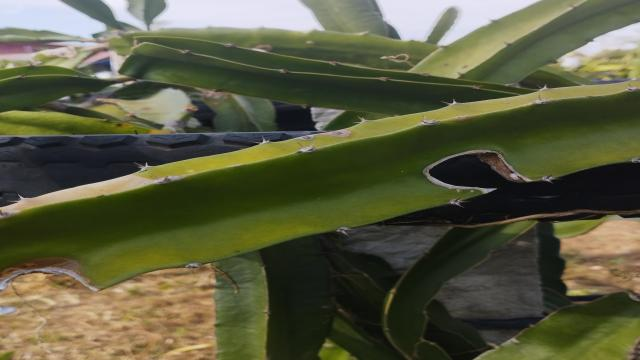stemcanker: (372, 48, 417, 66), (78, 190, 106, 203), (333, 125, 354, 140)
